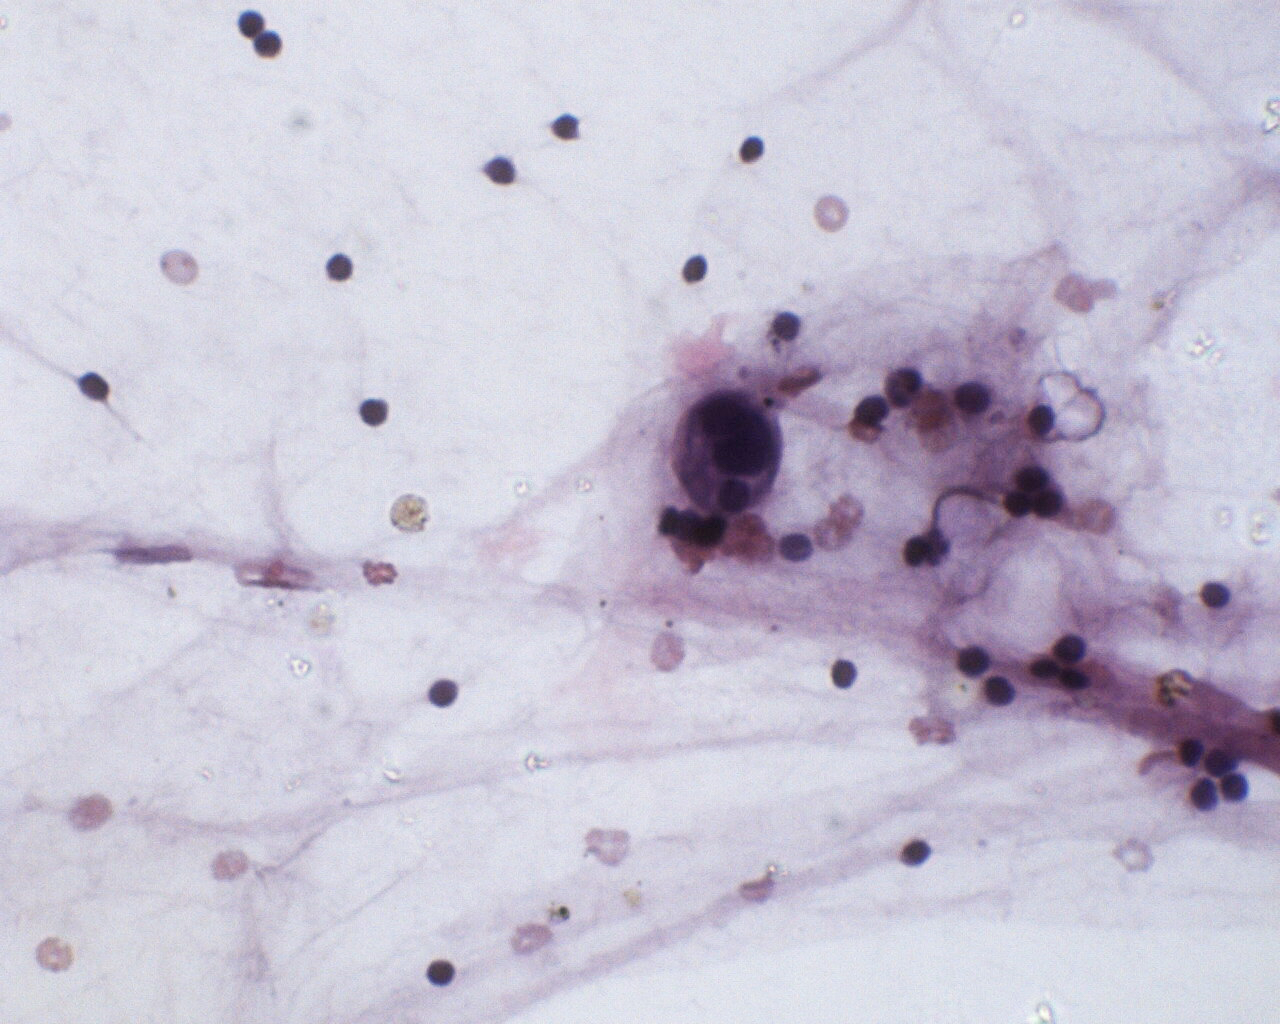ab: (671, 385, 789, 519)
lymph: (355, 388, 393, 434), (824, 654, 864, 693), (978, 672, 1019, 709), (76, 365, 112, 405), (1196, 573, 1233, 611), (423, 955, 461, 992), (423, 674, 462, 709), (679, 250, 712, 289), (320, 252, 356, 283), (770, 307, 802, 342)
